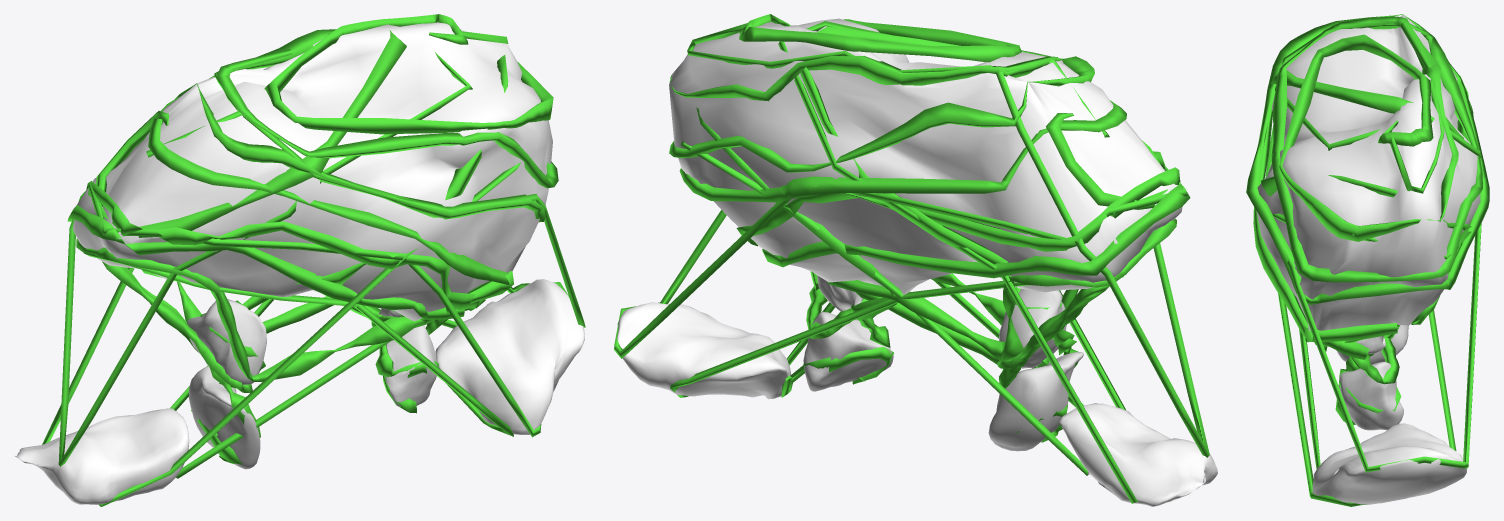
Rendered from grasstank.glb.
The picture shows the model from 3 angles, left to right: view 1: azimuth 30°, elevation 25°; view 2: azimuth 150°, elevation 25°; view 3: azimuth 270°, elevation 25°; orthographic projection. The views are drawn at different scales.
Visible parts, largest first — view 1: BodyRigged; view 2: BodyRigged; view 3: BodyRigged.
Part boxes in pixels (x1=…): BodyRigged: x1=15, y1=14, x2=585, y2=506; BodyRigged: x1=614, y1=14, x2=1217, y2=506; BodyRigged: x1=1246, y1=14, x2=1489, y2=506.
Size of the model in its own units: 6 by 4.19 by 2.51.
